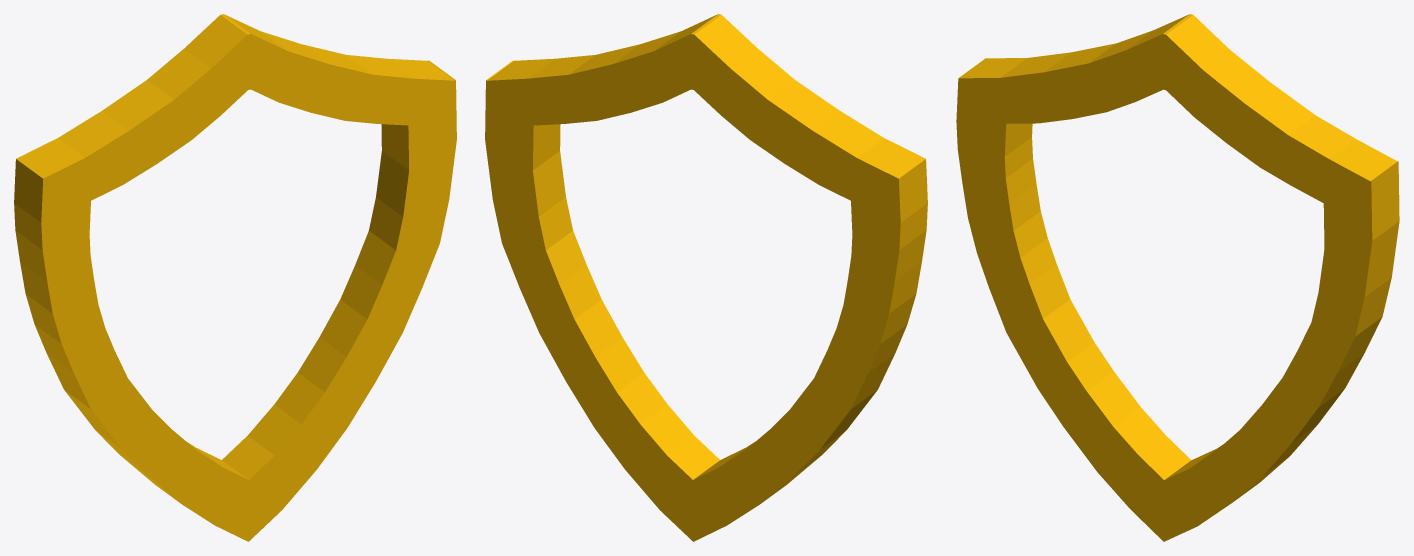
Rendered from shield2.fbx.
The picture shows the model from 3 angles, left to right: view 1: azimuth 30°, elevation 25°; view 2: azimuth 150°, elevation 25°; view 3: azimuth 330°, elevation 25°; orthographic projection.
Visible parts, largest first — view 1: Cube.001; view 2: Cube.001; view 3: Cube.001.
Boxes of the visible parts, <box> form: Cube.001: <box>14,14,456,541</box>; Cube.001: <box>485,14,927,541</box>; Cube.001: <box>956,14,1399,541</box>.
Bounding box in the file's own units: 826 × 93.82 × 964.
